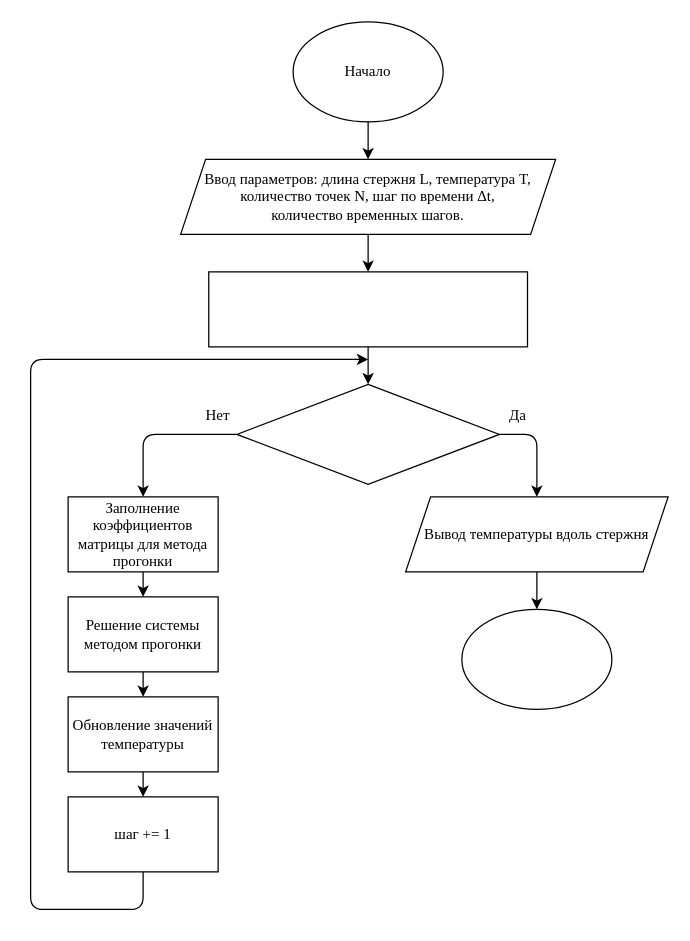
The diagram is 690 pixels wide and 941 high, and some of its shapes have lost their labels. Here are the shapes that lost their labels. From the top down, the box of each, then its label:
(208, 271, 528, 347): Инициализация: Температура в каждой точке стержня = 0, Задание граничных условий
(236, 383, 499, 484): шаг < всего шагов
(461, 608, 612, 709): Конец
